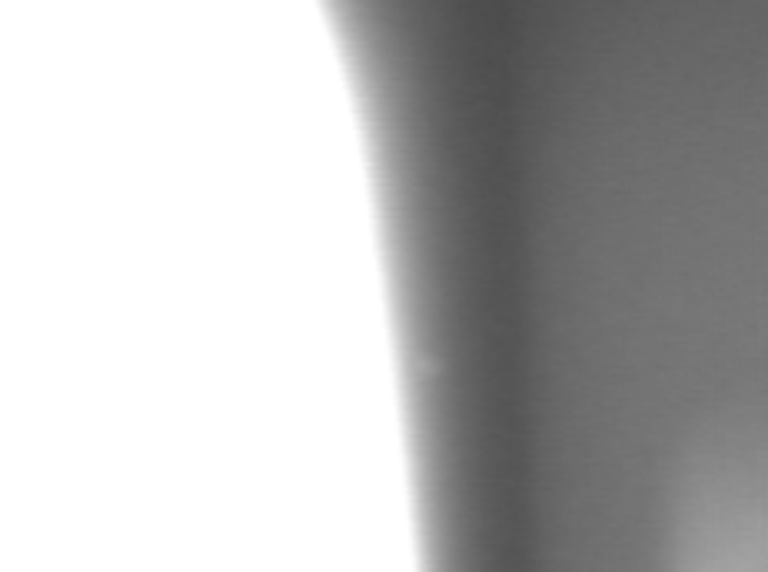defect: (409, 357, 455, 398)
